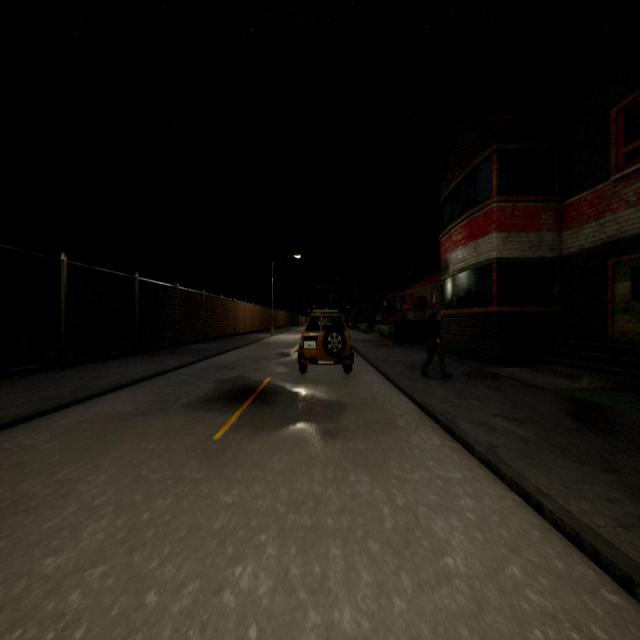Pedestrian: (421, 304, 452, 378)
Vehicle: (298, 310, 354, 373)
